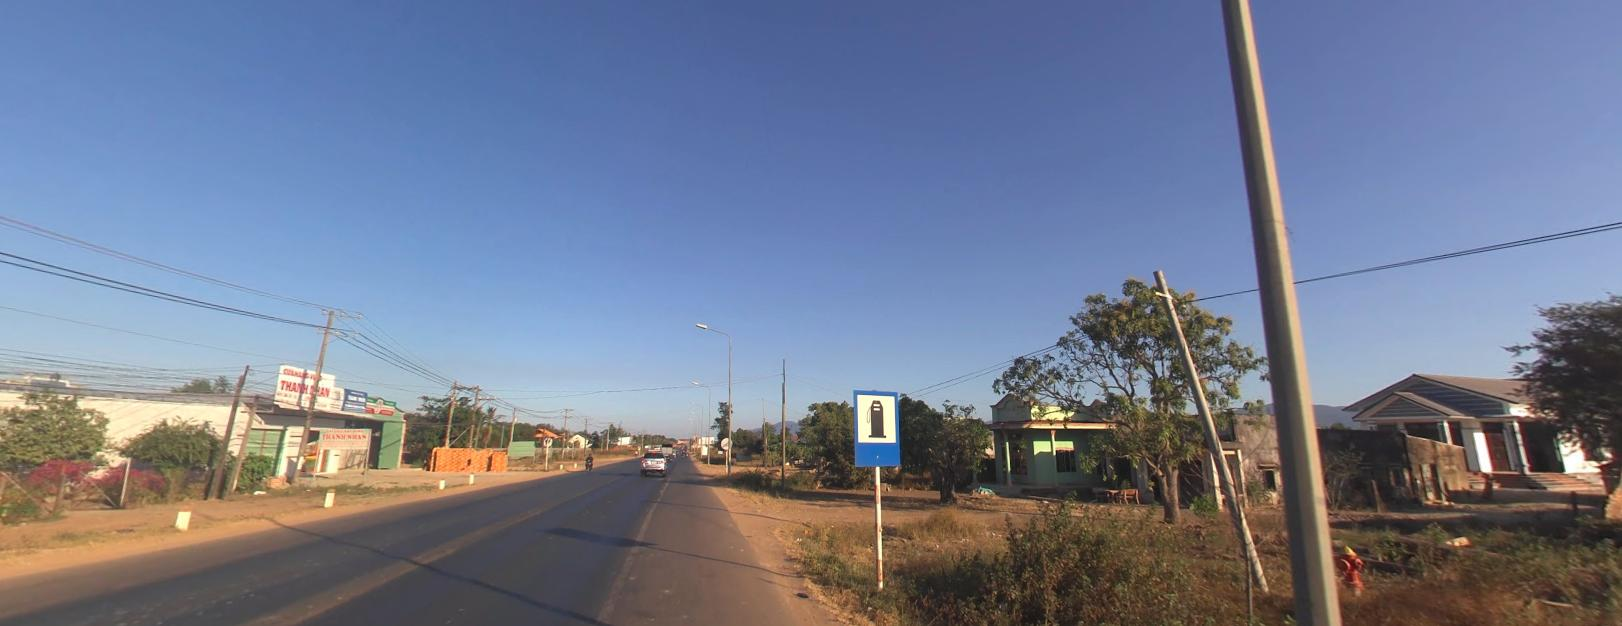Cam con lai: (720, 436, 731, 448)
